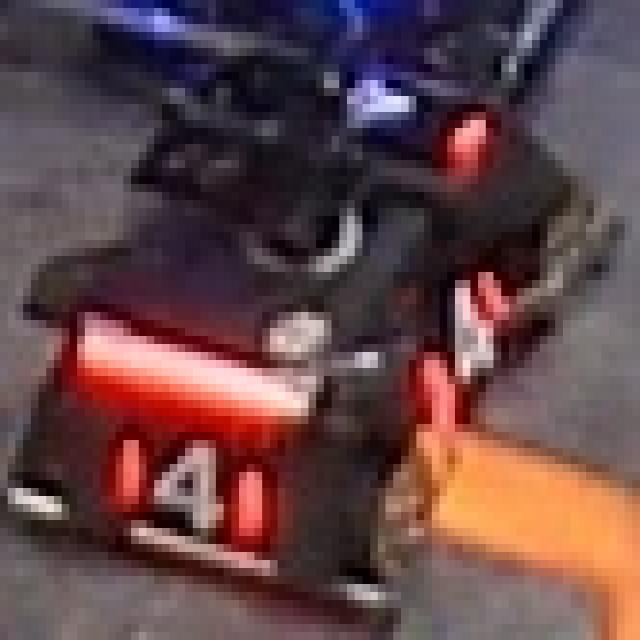R4: (108, 424, 270, 544), (416, 256, 516, 424)
